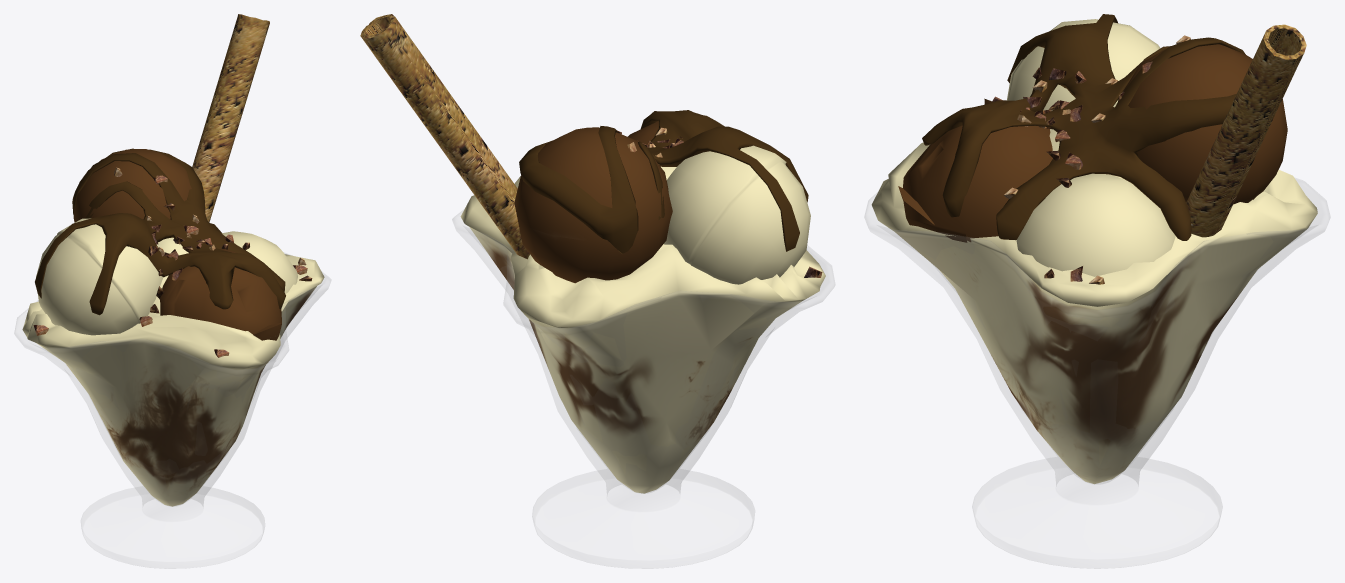
File: IceCream_Reduce.fbx
3 views of the same model, side by side, from view 1: azimuth 30°, elevation 25°; view 2: azimuth 150°, elevation 25°; view 3: azimuth 270°, elevation 25° (orthographic). The views are drawn at different scales.
Parts seen in each view (by area): view 1: archmodels76_011_02, archmodels76_011_04, archmodels76_011_03, archmodels76_011_06, archmodels76_011_01, archmodels76_011_05; view 2: archmodels76_011_02, archmodels76_011_04, archmodels76_011_06, archmodels76_011_03, archmodels76_011_01; view 3: archmodels76_011_02, archmodels76_011_04, archmodels76_011_03, archmodels76_011_06, archmodels76_011_01, archmodels76_011_05.
Boxes of the visible parts, x1=… form: archmodels76_011_02: x1=22, y1=237, x2=324, y2=506; archmodels76_011_04: x1=36, y1=149, x2=297, y2=340; archmodels76_011_03: x1=35, y1=148, x2=285, y2=315; archmodels76_011_06: x1=14, y1=253, x2=330, y2=542; archmodels76_011_01: x1=192, y1=14, x2=269, y2=222; archmodels76_011_05: x1=33, y1=167, x2=312, y2=357; archmodels76_011_02: x1=460, y1=166, x2=825, y2=493; archmodels76_011_04: x1=514, y1=121, x2=810, y2=284; archmodels76_011_06: x1=452, y1=210, x2=834, y2=551; archmodels76_011_03: x1=519, y1=110, x2=808, y2=253; archmodels76_011_01: x1=360, y1=14, x2=529, y2=259; archmodels76_011_02: x1=871, y1=103, x2=1317, y2=484; archmodels76_011_04: x1=898, y1=19, x2=1287, y2=276; archmodels76_011_03: x1=922, y1=14, x2=1245, y2=240; archmodels76_011_06: x1=864, y1=178, x2=1330, y2=550; archmodels76_011_01: x1=1186, y1=24, x2=1306, y2=237; archmodels76_011_05: x1=992, y1=35, x2=1190, y2=284.
Size of the model in its own units: 12.87 by 16.97 by 12.29.
